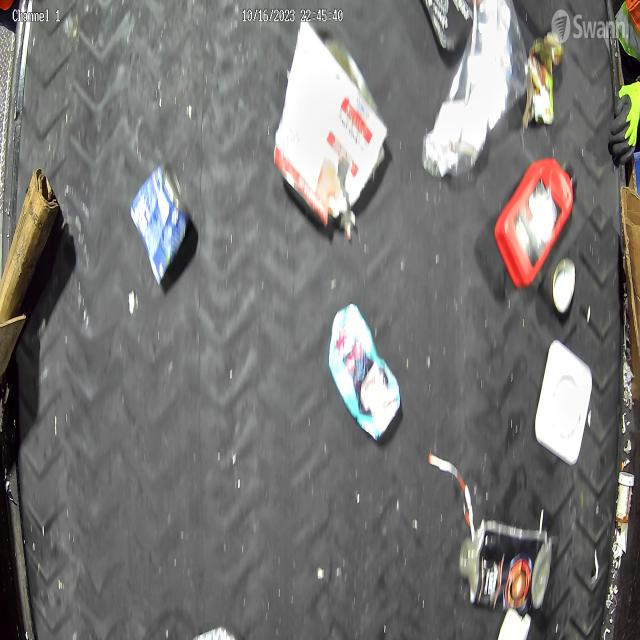can: (130, 161, 190, 287), (551, 256, 575, 312)
non_white_jug: (496, 158, 574, 289), (328, 304, 402, 442)
